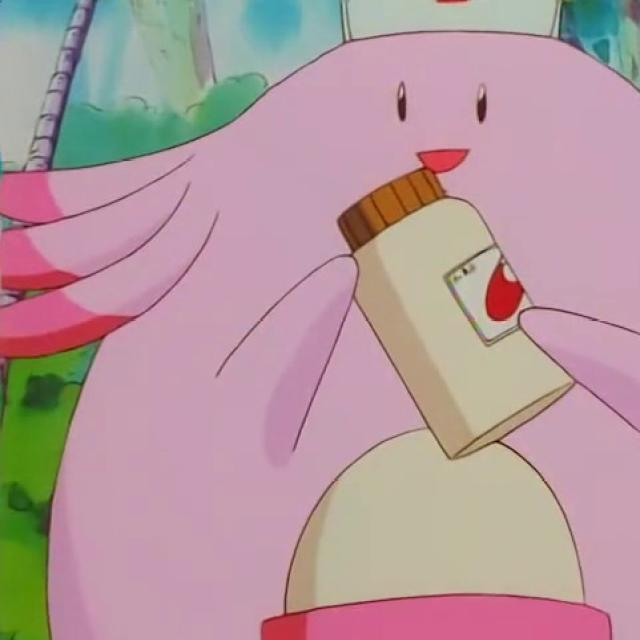Chansey: (34, 33, 640, 640)
